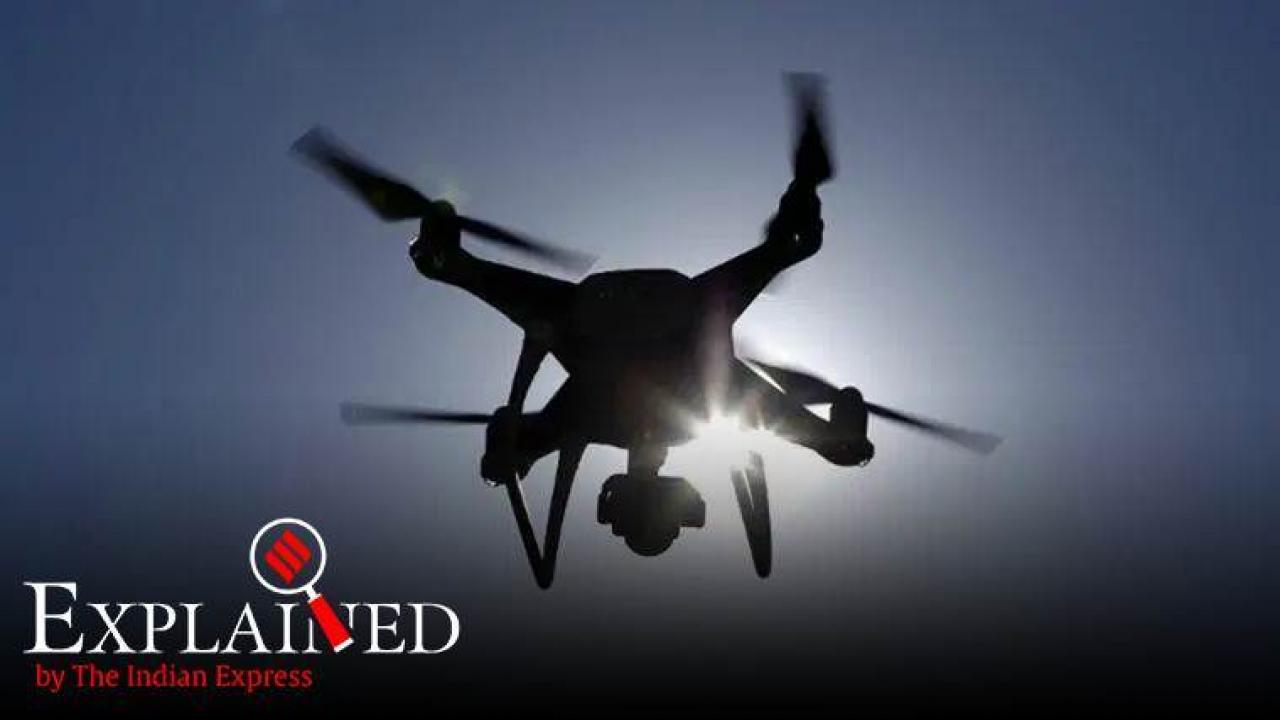Drone: (274, 59, 1014, 598)
